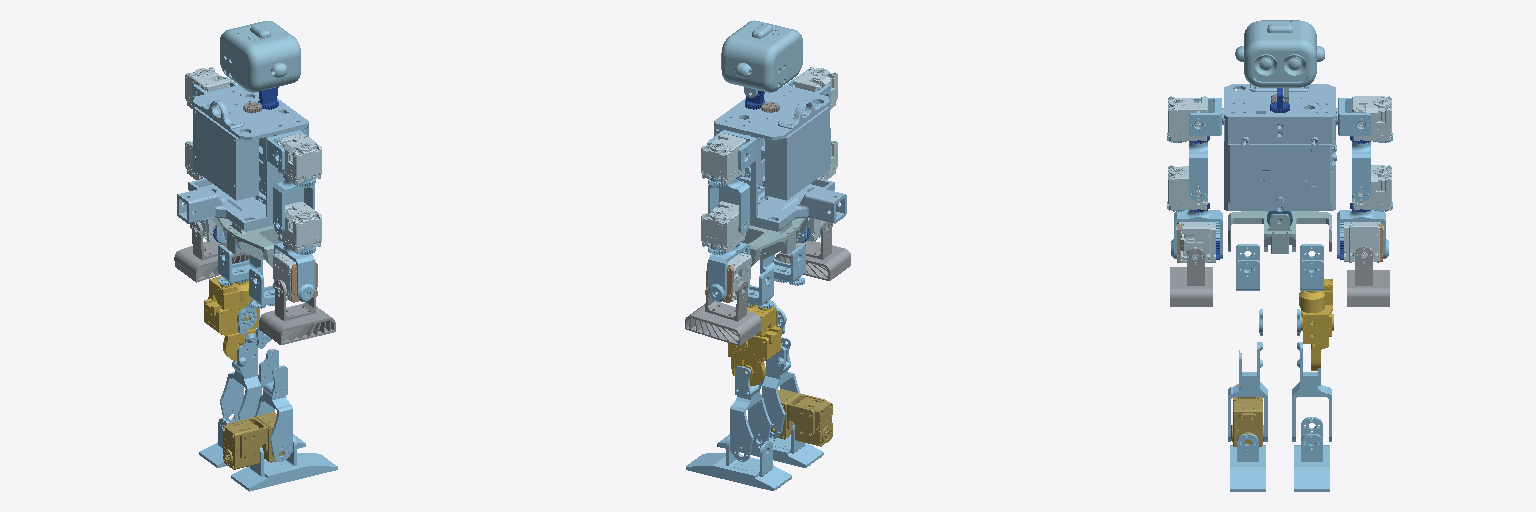
--- Render facts (derived) ---
3 views of the same robot in one strip: view 1: azimuth 30°, elevation 25°; view 2: azimuth 150°, elevation 25°; view 3: azimuth 270°, elevation 25° (orthographic).
Robot: toddlerbot_active — 55 links, 54 joints (30 revolute, 24 fixed); root link torso; default pose: all joints at 0.
Links seen in each view (by area): view 1: torso, head, hand_2, right_calf_link, left_hip_pitch_link, left_calf_link, ank_roll_link_2, right_ank_pitch_link, hand, 2xl430_gears_4, 2xl430_gears_5, waist_link (+8 smaller); view 2: torso, head, left_calf_link, hand, ank_roll_link, right_ank_pitch_link, left_hip_pitch_link, right_calf_link, hand_2, 2xl430_gears, 2xl430_gears_2, waist_link (+8 smaller); view 3: torso, head, ank_roll_link, waist_link, left_hip_pitch_link, hand_2, hand, ank_roll_link_2, 2xl430_gears, right_ank_pitch_link, 2xl430_gears_4, 2xl430_gears_6 (+13 smaller).
Link boxes in pixels (box(x1,y1,x2,y2)): torso: box(177, 86, 308, 231); head: box(220, 21, 300, 92); hand_2: box(259, 280, 335, 344); right_calf_link: box(254, 349, 292, 461); left_hip_pitch_link: box(204, 276, 259, 360); left_calf_link: box(220, 333, 261, 422); ank_roll_link_2: box(231, 436, 337, 491); right_ank_pitch_link: box(223, 412, 289, 469); hand: box(174, 222, 248, 282); 2xl430_gears_4: box(277, 133, 321, 184); 2xl430_gears_5: box(277, 202, 321, 252); waist_link: box(215, 218, 282, 267); torso: box(714, 86, 846, 231); head: box(721, 20, 802, 97); left_calf_link: box(730, 366, 771, 461); hand: box(685, 281, 761, 345); ank_roll_link: box(686, 436, 791, 490); right_ank_pitch_link: box(771, 389, 832, 446); left_hip_pitch_link: box(728, 305, 781, 385); right_calf_link: box(762, 337, 800, 438); hand_2: box(775, 221, 850, 280); 2xl430_gears: box(701, 133, 745, 183); 2xl430_gears_2: box(701, 201, 745, 252); waist_link: box(741, 217, 807, 266); torso: box(1222, 84, 1337, 211); head: box(1235, 20, 1324, 99); ank_roll_link: box(1294, 417, 1329, 491); waist_link: box(1228, 211, 1331, 253); left_hip_pitch_link: box(1299, 279, 1333, 370); hand_2: box(1170, 248, 1212, 306); hand: box(1347, 246, 1389, 306); ank_roll_link_2: box(1230, 434, 1265, 491); 2xl430_gears: box(1352, 96, 1391, 140); right_ank_pitch_link: box(1231, 384, 1263, 448); 2xl430_gears_4: box(1168, 96, 1207, 140); 2xl430_gears_6: box(1179, 222, 1215, 262).
Bounding box of the posed robot: 0.1752 × 0.2619 × 0.5614 m (x, y, z).
51 mesh visuals loaded from 55 distinct referenced files (51 binary STL); not drawn: 4 (reference not matched to a file when rendering).

URDF robot description (toddlerbot_active):
<?xml version="1.0" ?>
<robot name="toddlerbot_active">
  <mujoco>
    <compiler strippath="false" balanceinertia="true" discardvisual="false"/>
  </mujoco>
  <link name="torso">
    <visual>
      <origin xyz="0 0 0" rpy="0 -0 0"/>
      <geometry>
        <mesh filename="../assemblies/toddlerbot_active/meshes/torso_visual.stl"/>
      </geometry>
      <material name="torso_material">
        <color rgba="0.63866204066417398 0.79042612983052995546 0.89591918647189450198 1.0"/>
      </material>
    </visual>
    <collision name="torso_collision">
      <origin xyz="-0.02850000374019146 -5.000084638595581e-05 0.07068824046291411" rpy="0 0 0"/>
      <geometry>
        <box size="0.14100000634789467 0.13759998977184296 0.1454972173087299"/>
      </geometry>
    </collision>
    <inertial>
      <origin xyz="-0.0025146157670445632749 -0.0034624525472092657248 0.065529395922090741267" rpy="0 0 0"/>
      <mass value="1.085065963101202513"/>
      <inertia ixx="0.0028272039396820135455" ixy="7.4126802941129236275e-05" ixz="1.8774159564660604415e-05" iyy="0.002249597677268255682" iyz="-2.9332579430689060759e-05" izz="0.0023020777581455841021"/>
    </inertial>
  </link>
  <link name="spur_1m_20t">
    <visual>
      <origin xyz="0 0 0" rpy="0 -0 0"/>
      <geometry>
        <mesh filename="../assemblies/toddlerbot_active/meshes/spur_1m_20t_visual.stl"/>
      </geometry>
      <material name="spur_1m_20t_material">
        <color rgba="0.64705882352941179736 0.64705882352941179736 0.64705882352941179736 1.0"/>
      </material>
    </visual>
    <inertial>
      <origin xyz="-2.6272867535834243428e-19 -8.213876165191947908e-18 0.0033842321054344710884" rpy="0 0 0"/>
      <mass value="0.0015778025963746002049"/>
      <inertia ixx="4.5874424196602084909e-08" ixy="3.1120948173235942258e-24" ixz="-7.1097175513400468273e-39" iyy="4.5874424196602065057e-08" iyz="7.8419015231486123886e-38" izz="8.1737050837173876176e-08"/>
    </inertial>
  </link>
  <joint name="neck_yaw_drive" type="fixed">
    <origin xyz="-0.0049999999999995221878 3.1860588521011854095e-18 0.12148651076281755112" rpy="1.1607298201443905188e-14 1.6509758832059179101e-15 -5.3832337592600790636e-15"/>
    <parent link="torso"/>
    <child link="spur_1m_20t"/>
    <axis xyz="0 0 1"/>
    <limit effort="1" velocity="20"/>
    <joint_properties friction="0.0"/>
  </joint>
  <link name="neck_yaw_link_v2">
    <visual>
      <origin xyz="0 0 0" rpy="0 -0 0"/>
      <geometry>
        <mesh filename="../assemblies/toddlerbot_active/meshes/neck_yaw_link_v2_visual.stl"/>
      </geometry>
      <material name="neck_yaw_link_v2_material">
        <color rgba="0.2313725490196078538 0.38039215686274513439 0.7058823529411765163 1.0"/>
      </material>
    </visual>
    <inertial>
      <origin xyz="-1.1403990895340869883e-06 -1.1841855607304602894e-10 0.0082571849701004954719" rpy="0 0 0"/>
      <mass value="0.0067298837334394097723"/>
      <inertia ixx="5.2266067624768086445e-07" ixy="-6.3046403356094216415e-15" ixz="1.1949403084468002204e-09" iyy="6.1218519979556588152e-07" iyz="-2.601287198078358721e-15" izz="2.8062851709981924551e-07"/>
    </inertial>
  </link>
  <link name="head">
    <visual>
      <origin xyz="0 0 0" rpy="0 -0 0"/>
      <geometry>
        <mesh filename="../assemblies/toddlerbot_active/meshes/head_visual.stl"/>
      </geometry>
      <material name="head_material">
        <color rgba="0.62873939703496795062 0.79364291305093481732 0.87330110949792516539 1.0"/>
      </material>
    </visual>
    <inertial>
      <origin xyz="-0.045316002313821462932 -0.011276855645191820668 -0.0010251236602530952157" rpy="0 0 0"/>
      <mass value="0.13722101760550839411"/>
      <inertia ixx="0.00011880807294044733397" ixy="1.1390016804751257423e-06" ixz="1.8378816154934656445e-06" iyy="0.00010489076115433002847" iyz="-9.2536559812160233706e-06" izz="9.1894624061612226228e-05"/>
    </inertial>
  </link>
  <link name="motor_plate">
    <visual>
      <origin xyz="0 0 0" rpy="0 -0 0"/>
      <geometry>
        <mesh filename="../assemblies/toddlerbot_active/meshes/motor_plate_visual.stl"/>
      </geometry>
      <material name="motor_plate_material">
        <color rgba="0.64705882352941179736 0.64705882352941179736 0.64705882352941179736 1.0"/>
      </material>
    </visual>
    <inertial>
      <origin xyz="-6.9388939039072283776e-18 -3.4694469519536141888e-18 -0.0028281768943845498818" rpy="0 0 0"/>
      <mass value="0.0016999999999999999053"/>
      <inertia ixx="4.805029073310371698e-08" ixy="1.0773753257370483397e-09" ixz="-2.8434898612727714968e-36" iyy="5.1782428339099030199e-08" iyz="-8.7187946076336322982e-37" izz="9.2194729037862249329e-08"/>
    </inertial>
  </link>
  <joint name="neck_pitch_act" type="fixed">
    <origin xyz="-0.032615697718560709983 -0.027000000000000072553 0.0024999999999998486974" rpy="-3.1415926535897655825 -3.1793530896719215746e-13 -3.1415926535897407135"/>
    <parent link="head"/>
    <child link="motor_plate"/>
    <axis xyz="0 0 1"/>
    <limit effort="1" velocity="20"/>
    <joint_properties friction="0.0"/>
  </joint>
  <joint name="neck_pitch" type="revolute">
    <origin xyz="-1.1796119636642288242e-16 0.0040000000000001215139 0.019400000000000056088" rpy="-1.5707963267904627713 1.5671692223466835436 -3.1415926535886637971"/>
    <parent link="neck_yaw_link_v2"/>
    <child link="head"/>
    <axis xyz="0 0 1"/>
    <limit effort="1" velocity="20" lower="-1.3962634015954635824" upper="0.61086523819801530344"/>
    <joint_properties friction="0.0"/>
  </joint>
  <joint name="neck_yaw" type="revolute">
    <origin xyz="0.016000000000000621364 3.9122381713629107253e-19 0.12248651076281739936" rpy="1.5470695466536949876e-14 -3.0902695541116811913e-15 -8.6007558735577539147e-16"/>
    <parent link="torso"/>
    <child link="neck_yaw_link_v2"/>
    <axis xyz="0 0 1"/>
    <limit effort="1" velocity="20" lower="-2.6179938779914944114" upper="2.6179938779914944114"/>
    <joint_properties friction="0.0"/>
  </joint>
  <link name="waist_gears">
    <visual>
      <origin xyz="0 0 0" rpy="0 -0 0"/>
      <geometry>
        <mesh filename="../assemblies/toddlerbot_active/meshes/waist_gears_visual.stl"/>
      </geometry>
      <material name="waist_gears_material">
        <color rgba="0.29673072126509869584 0.50090014891145373532 0.63316042503557945498 1.0"/>
      </material>
    </visual>
    <inertial>
      <origin xyz="-2.9089024308857832571e-07 5.5035553748624927846e-08 -0.012592985430860506244" rpy="0 0 0"/>
      <mass value="0.026337180140419177987"/>
      <inertia ixx="1.5367047941033414761e-06" ixy="1.8828487083154202092e-11" ixz="4.0600521957505171123e-10" iyy="7.3024712275450681231e-06" iyz="3.2911737857356925833e-12" izz="6.9859065635059629397e-06"/>
    </inertial>
  </link>
  <link name="waist_link">
    <visual>
      <origin xyz="0 0 0" rpy="0 -0 0"/>
      <geometry>
        <mesh filename="../assemblies/toddlerbot_active/meshes/waist_link_visual.stl"/>
      </geometry>
      <material name="waist_link_material">
        <color rgba="0.64205964988973118768 0.77112878115803895618 0.80455743168009175026 1.0"/>
      </material>
    </visual>
    <collision name="waist_link_collision">
      <origin xyz="0.0 -0.021850000135600567 -0.022750000469386578" rpy="0 0 0"/>
      <geometry>
        <box size="0.11999999731779099 0.057499999180436134 0.07000000216066837"/>
      </geometry>
    </collision>
    <inertial>
      <origin xyz="-1.8696422424380786576e-17 -0.024647143936899634092 -0.024243097328499933762" rpy="0 0 0"/>
      <mass value="0.10819999998618363979"/>
      <inertia ixx="4.7479700735674147856e-05" ixy="-2.3251323235829624041e-20" ixz="-5.6250747314438694771e-09" iyy="9.6352172992785761079e-05" iyz="1.5514215856085537166e-06" izz="6.7249246473032378828e-05"/>
    </inertial>
  </link>
  <link name="spiral_bevel_1m_14t_30deg">
    <visual>
      <origin xyz="0 0 0" rpy="0 -0 0"/>
      <geometry>
        <mesh filename="../assemblies/toddlerbot_active/meshes/spiral_bevel_1m_14t_30deg_visual.stl"/>
      </geometry>
      <material name="spiral_bevel_1m_14t_30deg_material">
        <color rgba="0.64705882352941179736 0.64705882352941179736 0.64705882352941179736 1.0"/>
      </material>
    </visual>
    <inertial>
      <origin xyz="7.4971447105998133901e-10 7.1802237332913011122e-10 0.0066868955018979173155" rpy="0 0 0"/>
      <mass value="0.00073261524436595492574"/>
      <inertia ixx="1.3495056019478195011e-08" ixy="4.0596681291792787018e-17" ixz="8.5992550177701704034e-16" iyy="1.3495056150237195634e-08" iyz="-6.7913008238986341959e-16" izz="1.43559865498164051e-08"/>
    </inertial>
  </link>
  <joint name="waist_act_1" type="fixed">
    <origin xyz="-4.2595620045002374081e-18 -0.019600000000000006306 -0.012749999999999992242" rpy="1.570796326794896558 -1.1294754804497596673e-16 3.1415926535897926719"/>
    <parent link="waist_link"/>
    <child link="spiral_bevel_1m_14t_30deg"/>
    <axis xyz="0 0 1"/>
    <limit effort="1" velocity="20"/>
    <joint_properties friction="0.0"/>
  </joint>
  <link name="spiral_bevel_1m_14t_30deg_2">
    <visual>
      <origin xyz="0 0 0" rpy="0 -0 0"/>
      <geometry>
        <mesh filename="../assemblies/toddlerbot_active/meshes/spiral_bevel_1m_14t_30deg_2_visual.stl"/>
      </geometry>
      <material name="spiral_bevel_1m_14t_30deg_2_material">
        <color rgba="0.64705882352941179736 0.64705882352941179736 0.64705882352941179736 1.0"/>
      </material>
    </visual>
    <inertial>
      <origin xyz="3.6393116992217144912e-10 -9.7220472687967185443e-10 -0.0066868955018979190502" rpy="0 0 0"/>
      <mass value="0.00073261524436595492574"/>
      <inertia ixx="1.3495056012354480834e-08" ixy="2.5804135489187712274e-17" ixz="-1.069429605266726274e-15" iyy="1.3495056157360909811e-08" iyz="-2.387673694220831759e-16" izz="1.4355986549816408408e-08"/>
    </inertial>
  </link>
  <joint name="waist_act_2" type="fixed">
    <origin xyz="1.2028779959866843989e-17 -0.019599999999999999367 -0.032750000000000001332" rpy="-1.570796326794896558 1.1469143902292295508e-17 -3.141592653589793116"/>
    <parent link="waist_link"/>
    <child link="spiral_bevel_1m_14t_30deg_2"/>
    <axis xyz="0 0 1"/>
    <limit effort="1" velocity="20"/>
    <joint_properties friction="0.0"/>
  </joint>
  <joint name="left_hip_pitch" type="revolute">
    <origin xyz="0.05600000000000003586 -0.040100000000000766975 -0.02275000000000062389" rpy="-1.570796326794896558 2.3372262395059397709e-15 1.5707963267948974462"/>
    <parent link="waist_link"/>
    <child link="2xc430"/>
    <axis xyz="0 0 1"/>
    <limit effort="1" velocity="20" lower="-1.570796326794896558" upper="2.356194490192344837"/>
    <joint_properties friction="0.0"/>
  </joint>
  <joint name="right_hip_pitch" type="revolute">
    <origin xyz="-0.055999999999999966471 -0.040099999999999282052 -0.022750000000000037553" rpy="1.57079632679489678 3.8857805862892459266e-16 1.5707963267948961139"/>
    <parent link="waist_link"/>
    <child link="2xc430_2"/>
    <axis xyz="0 0 1"/>
    <limit effort="1" velocity="20" lower="-2.356194490192344837" upper="1.570796326794896558"/>
    <joint_properties friction="0.0"/>
  </joint>
  <joint name="waist_roll" type="revolute">
    <origin xyz="-0.022707865260692423198 -9.7274600111297846042e-19 -0.014000000000000000291" rpy="1.570796326794896558 8.4288122184796088386e-16 -1.570796326794896558"/>
    <parent link="waist_gears"/>
    <child link="waist_link"/>
    <axis xyz="0 0 1"/>
    <limit effort="1" velocity="20" lower="-0.52359877559829881566" upper="0.52359877559829881566"/>
    <joint_properties friction="0.0"/>
  </joint>
  <joint name="waist_yaw" type="revolute">
    <origin xyz="0 2.3419308123748787973e-31 -2.4651903288156618919e-32" rpy="1.7541622236939310179e-17 -3.9276012762146508757e-15 3.1415926535897922278"/>
    <parent link="torso"/>
    <child link="waist_gears"/>
    <axis xyz="0 0 1"/>
    <limit effort="1" velocity="20" lower="-1.570796326794896558" upper="1.570796326794896558"/>
    <joint_properties friction="0.0"/>
  </joint>
  <joint name="left_sho_pitch" type="revolute">
    <origin xyz="-0.0035000000000004762545 0.067000000000001072586 0.10423651076281729988" rpy="-1.5707963267949092145 -4.1276434099564722448e-14 3.4723733359247937182e-14"/>
    <parent link="torso"/>
    <child link="sho_pitch_link"/>
    <axis xyz="0 0 1"/>
    <limit effort="1" velocity="20" lower="-3.141592653589793116" upper="1.570796326794896558"/>
    <joint_properties friction="0.0"/>
  </joint>
  <joint name="right_sho_pitch" type="revolute">
    <origin xyz="-0.003499999999998689923 -0.067000000000001017075 0.10423651076281729988" rpy="-1.5707963267948874542 3.6375999989622199756e-14 -3.1415926535897562566"/>
    <parent link="torso"/>
    <child link="sho_pitch_link_2"/>
    <axis xyz="0 0 1"/>
    <limit effort="1" velocity="20" lower="-1.570796326794896558" upper="3.141592653589793116"/>
    <joint_properties friction="0.0"/>
  </joint>
  <link name="2xc430">
    <visual>
      <origin xyz="0 0 0" rpy="0 -0 0"/>
      <geometry>
        <mesh filename="../assemblies/left_leg_active/meshes/left_2xc430_visual.stl"/>
      </geometry>
      <material name="2xc430_material">
        <color rgba="0.51698661238356047321 0.50347815951093488618 0.49050589017722012741 1.0"/>
      </material>
    </visual>
    <inertial>
      <origin xyz="-0.0120001511339564923 0.00049588831385626367092 0.01850401924450319896" rpy="0 0 0"/>
      <mass value="0.11059999999836234164"/>
      <inertia ixx="2.2818802599017385101e-05" ixy="4.6888548258345894655e-08" ixz="4.6520143289217505514e-08" iyy="3.0871666424467696587e-05" iyz="-5.7477343899723834052e-07" izz="3.0871632082336744173e-05"/>
    </inertial>
  </link>
  <link name="hip_yaw_link">
    <visual>
      <origin xyz="0 0 0" rpy="0 -0 0"/>
      <geometry>
        <mesh filename="../assemblies/left_leg_active/meshes/left_hip_yaw_link_visual.stl"/>
      </geometry>
      <material name="hip_yaw_link_material">
        <color rgba="0.61568627450980395466 0.81176470588235294379 0.92941176470588238168 1.0"/>
      </material>
    </visual>
    <inertial>
      <origin xyz="7.9056415076153557052e-19 -0.015800610849654277146 -0.019005670096647751116" rpy="0 0 0"/>
      <mass value="0.013199999999999992989"/>
      <inertia ixx="5.789461597517412337e-06" ixy="-1.7415088674758894312e-36" ixz="1.2832779283935135522e-36" iyy="5.0110144042848776317e-06" iyz="1.1826010760651176287e-09" izz="2.7344876354814331659e-06"/>
    </inertial>
  </link>
  <link name="spur_gear_21_teeth">
    <visual>
      <origin xyz="0 0 0" rpy="0 -0 0"/>
      <geometry>
        <mesh filename="../assemblies/left_leg_active/meshes/left_spur_gear_21_teeth_visual.stl"/>
      </geometry>
      <material name="spur_gear_21_teeth_material">
        <color rgba="0.61568627450980395466 0.81176470588235294379 0.9294117647058824927 1.0"/>
      </material>
    </visual>
    <inertial>
      <origin xyz="-4.5505289335411606329e-11 -1.6782163661890817574e-11 -0.00249241020062506086" rpy="0 0 0"/>
      <mass value="0.0022000000000000001325"/>
      <inertia ixx="7.0162310059594196881e-08" ixy="-1.7296344820489596811e-39" ixz="-2.6465015955880150586e-39" iyy="7.016231005804746178e-08" iyz="4.706443675885446204e-39" izz="1.3125544198538289306e-07"/>
    </inertial>
  </link>
  <link name="left_hip_pitch_link">
    <visual>
      <origin xyz="0 0 0" rpy="0 -0 0"/>
      <geometry>
        <mesh filename="../assemblies/left_leg_active/meshes/left_hip_pitch_link_visual.stl"/>
      </geometry>
      <material name="left_hip_pitch_link_material">
        <color rgba="0.80773802221328794282 0.71541030077254164077 0.35058406659986895981 1.0"/>
      </material>
    </visual>
    <collision name="left_hip_pitch_link_collision">
      <origin xyz="-0.009275000542402267 -0.004349999129772186 0.05247500166296959" rpy="0 0 0"/>
      <geometry>
        <box size="0.05855000019073486 0.042399998754262924 0.10495000332593918"/>
      </geometry>
    </collision>
    <inertial>
      <origin xyz="-0.0099310748247876320938 -0.0055733268638736314579 0.039014117054800595552" rpy="0 0 0"/>
      <mass value="0.14895408167669133004"/>
      <inertia ixx="7.3955327919483632962e-05" ixy="-1.1805488631452789334e-06" ixz="-8.060325155229058482e-06" iyy="8.8995102919696593489e-05" iyz="1.1275669888575771416e-06" izz="4.2292269256454298725e-05"/>
    </inertial>
  </link>
  <link name="spur_gear_18_teeth">
    <visual>
      <origin xyz="0 0 0" rpy="0 -0 0"/>
      <geometry>
        <mesh filename="../assemblies/left_leg_active/meshes/left_spur_gear_18_teeth_visual.stl"/>
      </geometry>
      <material name="spur_gear_18_teeth_material">
        <color rgba="0.61568627450980395466 0.81176470588235294379 0.92941176470588238168 1.0"/>
      </material>
    </visual>
    <inertial>
      <origin xyz="-7.7513419666719815872e-14 -3.6849749222242637987e-13 0.0017500000000010135486" rpy="0 0 0"/>
      <mass value="0.0011999999999999998949"/>
      <inertia ixx="2.9367899810799927978e-08" ixy="7.0237994118966961071e-19" ixz="-9.093083600898419224e-36" iyy="2.9367899814659469999e-08" iyz="-6.7496912845597021962e-37" izz="5.6306346207859581581e-08"/>
    </inertial>
  </link>
  <joint name="left_hip_yaw_drive" type="fixed">
    <origin xyz="-0.019199999999993326572 0.00020000000000297904479 -3.3591185388814892576e-14" rpy="-3.1415926535896656624 -5.0119741105083928872e-13 4.8264601989417384549e-13"/>
    <parent link="left_hip_pitch_link"/>
    <child link="spur_gear_18_teeth"/>
    <axis xyz="0 0 1"/>
    <limit effort="1" velocity="20"/>
    <joint_properties friction="0.0"/>
  </joint>
  <link name="left_calf_link">
    <visual>
      <origin xyz="0 0 0" rpy="0 -0 0"/>
      <geometry>
        <mesh filename="../assemblies/left_leg_active/meshes/left_calf_link_visual.stl"/>
      </geometry>
      <material name="left_calf_link_material">
        <color rgba="0.61568627450980395466 0.81176470588235294379 0.92941176470588238168 1.0"/>
      </material>
    </visual>
    <inertial>
      <origin xyz="-0.0043450054391248786947 0.040752982165250771496 0.0087116093515534967495" rpy="0 0 0"/>
      <mass value="0.030999999999999992839"/>
      <inertia ixx="3.3069388685112569883e-05" ixy="-1.3783307153201298896e-06" ixz="-1.2742534026334006212e-07" iyy="7.7316525337315854217e-06" iyz="-7.335650059386048945e-08" izz="2.8031377753987751284e-05"/>
    </inertial>
  </link>
  <link name="left_ank_pitch_link">
    <visual>
      <origin xyz="0 0 0" rpy="0 -0 0"/>
      <geometry>
        <mesh filename="../assemblies/left_leg_active/meshes/left_ank_pitch_link_visual.stl"/>
      </geometry>
      <material name="left_ank_pitch_link_material">
        <color rgba="0.70321688500203349825 0.64514870846184457776 0.40484735422826251261 1.0"/>
      </material>
    </visual>
    <collision name="left_ank_pitch_link_collision">
      <origin xyz="0.01934999879449606 0.012000000104308128 0.016799999633803964" rpy="0 0 0"/>
      <geometry>
        <box size="0.084799999371171 0.04650000110268593 0.04239999828860164"/>
      </geometry>
    </collision>
    <inertial>
      <origin xyz="0.017770241891401236667 0.012301334508572112081 0.018813528244421784397" rpy="0 0 0"/>
      <mass value="0.1767637669506791076"/>
      <inertia ixx="4.7283316680251528594e-05" ixy="-1.3380598598440066277e-06" ixz="-5.5304058905152607314e-07" iyy="0.00010706456048089248178" iyz="-5.3225137839470791761e-08" izz="0.00012185522397136386665"/>
    </inertial>
  </link>
  <link name="ank_roll_link">
    <visual>
      <origin xyz="0 0 0" rpy="0 -0 0"/>
      <geometry>
        <mesh filename="../assemblies/left_leg_active/meshes/left_ank_roll_link_visual.stl"/>
      </geometry>
      <material name="ank_roll_link_material">
        <color rgba="0.61568627450980384364 0.81176470588235283277 0.92941176470588227065 1.0"/>
      </material>
    </visual>
    <collision name="ank_roll_link_collision">
      <origin xyz="-0.014500000514090061 0.0 0.038999998942017555" rpy="0 0 0"/>
      <geometry>
        <box size="0.04900000058114529 0.041999999433755875 0.12000000104308128"/>
      </geometry>
    </collision>
    <inertial>
      <origin xyz="-0.027003066516822049614 -2.0057346566329234726e-12 0.033764011359896449471" rpy="0 0 0"/>
      <mass value="0.042600000000000012856"/>
      <inertia ixx="3.7284397827464321284e-05" ixy="-5.5171856782523619006e-16" ixz="2.3929183768080488394e-06" iyy="3.7589276943350537956e-05" iyz="5.0934855332653714243e-12" izz="1.0090430906786831852e-05"/>
    </inertial>
  </link>
  <joint name="left_ank_roll" type="revolute">
    <origin xyz="0.022749999999985538734 -7.882583474838611437e-15 0.01900000000000061362" rpy="-1.5707963267949487385 -4.2119656378063955504e-14 1.5707963267951472464"/>
    <parent link="left_ank_pitch_link"/>
    <child link="ank_roll_link"/>
    <axis xyz="0 0 1"/>
    <limit effort="1" velocity="20" lower="-1.570796326794896558" upper="1.570796326794896558"/>
    <joint_properties friction="0.0"/>
  </joint>
  <joint name="left_ank_pitch" type="revolute">
    <origin xyz="-1.9512606733250257952e-15 0.10000000000000036637 0.02775000000000000383" rpy="-3.141592653589793116 3.5087959447744686916e-16 2.3008038058414658775e-14"/>
    <parent link="left_calf_link"/>
    <child link="left_ank_pitch_link"/>
    <axis xyz="0 0 1"/>
    <limit effort="1" velocity="20" lower="-1.7453292519943295336" upper="0.785398163397448279"/>
    <joint_properties friction="0.0"/>
  </joint>
  <joint name="left_knee" type="revolute">
    <origin xyz="-2.8613480456167939715e-17 -0.0087499999999999158312 0.085949999999999998623" rpy="1.57079632679489678 3.591571484825329779e-14 3.141592653589793116"/>
    <parent link="left_hip_pitch_link"/>
    <child link="left_calf_link"/>
    <axis xyz="0 0 1"/>
    <limit effort="1" velocity="20" lower="-2.0943951023931952626" upper="0"/>
    <joint_properties friction="0.0"/>
  </joint>
  <link name="xm430_plate">
    <visual>
      <origin xyz="0 0 0" rpy="0 -0 0"/>
      <geometry>
        <mesh filename="../assemblies/left_leg_active/meshes/left_xm430_plate_visual.stl"/>
      </geometry>
      <material name="xm430_plate_material">
        <color rgba="0.61568627450980395466 0.81176470588235294379 0.92941176470588227065 1.0"/>
      </material>
    </visual>
    <inertial>
      <origin xyz="-1.2470677117592975908e-17 -2.603989803260703764e-18 0.0025278513919583817798" rpy="0 0 0"/>
      <mass value="0.0026999999999999997093"/>
      <inertia ixx="1.2887178787151824688e-07" ixy="5.8739562556303580066e-08" ixz="1.3747001931663957437e-36" iyy="2.4635091298412528789e-07" iyz="1.2591564783620003869e-36" izz="3.6467998413810316538e-07"/>
    </inertial>
  </link>
  <joint name="left_knee_act" type="fixed">
    <origin xyz="2.549465851207057319e-18 0.012450000000000006201 0.044499999999999990952" rpy="-1.570796326794896558 1.570796326794896558 0"/>
    <parent link="left_hip_pitch_link"/>
    <child link="xm430_plate"/>
    <axis xyz="0 0 1"/>
    <limit effort="1" velocity="20"/>
    <joint_properties friction="0.0"/>
  </joint>
  <joint name="left_hip_yaw" type="revolute">
    <origin xyz="3.3476830706536645795e-18 3.4694469519536141888e-18 -0.0049999999999999905631" rpy="-3.141592653589793116 -9.9920072216846031328e-16 -6.2516448472107216595e-14"/>
    <parent link="spur_gear_21_teeth"/>
    <child link="left_hip_pitch_link"/>
    <axis xyz="0 0 1"/>
    <limit effort="1" velocity="20" lower="-1.570796326794896558" upper="1.570796326794896558"/>
    <joint_properties friction="0.0"/>
  </joint>
  <joint name="left_hip_yaw_fixed" type="fixed">
    <origin xyz="0 -0.028000000000000004052 -0.018999999999999999528" rpy="-1.5707963267948932273 1.5707963267948956698 0"/>
    <parent link="hip_yaw_link"/>
    <child link="spur_gear_21_teeth"/>
    <axis xyz="0 0 1"/>
    <limit effort="1" velocity="20"/>
    <joint_properties friction="0.0"/>
  </joint>
  <joint name="left_hip_roll" type="revolute">
    <origin xyz="-0.024000000716139682777 0.019000000152448071056 0.019000000152447796969" rpy="-1.57079632679489678 -1.5707963267948943376 0"/>
    <parent link="2xc430"/>
    <child link="hip_yaw_link"/>
    <axis xyz="0 0 1"/>
    <limit effort="1" velocity="20" lower="-0.785398163397448279" upper="0.785398163397448279"/>
    <joint_properties friction="0.0"/>
  </joint>
  <link name="2xc430_2">
    <visual>
      <origin xyz="0 0 0" rpy="0 -0 0"/>
      <geometry>
        <mesh filename="../assemblies/right_leg_active/meshes/right_2xc430_visual.stl"/>
      </geometry>
      <material name="2xc430_material">
        <color rgba="0.51698661238356047321 0.50347815951093488618 0.49050589017722012741 1.0"/>
      </material>
    </visual>
    <inertial>
      <origin xyz="-0.0120001511339564923 0.00049588831385626367092 0.01850401924450319896" rpy="0 0 0"/>
      <mass value="0.11059999999836234164"/>
      <inertia ixx="2.2818802599017385101e-05" ixy="4.6888548258345894655e-08" ixz="4.6520143289217505514e-08" iyy="3.0871666424467696587e-05" iyz="-5.7477343899723834052e-07" izz="3.0871632082336744173e-05"/>
    </inertial>
  </link>
  <link name="hip_yaw_link_2">
    <visual>
      <origin xyz="0 0 0" rpy="0 -0 0"/>
      <geometry>
        <mesh filename="../assemblies/right_leg_active/meshes/right_hip_yaw_link_visual.stl"/>
      </geometry>
      <material name="hip_yaw_link_material">
        <color rgba="0.61568627450980395466 0.81176470588235294379 0.92941176470588238168 1.0"/>
      </material>
    </visual>
    <inertial>
      <origin xyz="-2.678882801192081122e-18 -0.015800610849654277146 -0.019005670096647754586" rpy="0 0 0"/>
      <mass value="0.013199999999999992989"/>
      <inertia ixx="5.789461597517412337e-06" ixy="-1.9489251097466773533e-36" ixz="3.4468362863536094383e-36" iyy="5.0110144042848776317e-06" iyz="1.1826010760651176287e-09" izz="2.7344876354814331659e-06"/>
    </inertial>
  </link>
  <link name="spur_gear_21_teeth_2">
    <visual>
      <origin xyz="0 0 0" rpy="0 -0 0"/>
      <geometry>
        <mesh filename="../assemblies/right_leg_active/meshes/right_spur_gear_21_teeth_visual.stl"/>
      </geometry>
      <material name="spur_gear_21_teeth_material">
        <color rgba="0.61568627450980395466 0.81176470588235294379 0.9294117647058824927 1.0"/>
      </material>
    </visual>
    <inertial>
      <origin xyz="-4.550528933541158048e-11 -1.6782163661890817574e-11 -0.00249241020062506086" rpy="0 0 0"/>
      <mass value="0.0022000000000000001325"/>
      <inertia ixx="7.0162310059594196881e-08" ixy="0" ixz="4.8298814937805552291e-38" iyy="7.016231005804746178e-08" iyz="0" izz="1.3125544198538289306e-07"/>
    </inertial>
  </link>
  <link name="right_hip_pitch_link">
    <visual>
      <origin xyz="0 0 0" rpy="0 -0 0"/>
      <geometry>
        <mesh filename="../assemblies/right_leg_active/meshes/right_hip_pitch_link_visual.stl"/>
      </geometry>
      <material name="right_hip_pitch_link_material">
        <color rgba="0.81231119922470307326 0.7131158892107314351 0.33680089849959421455 1.0"/>
      </material>
    </visual>
    <collision name="right_hip_pitch_link_collision">
      <origin xyz="0.009275000542402267 -0.004349999129772186 0.05247500166296959" rpy="0 0 0"/>
      <geometry>
        <box size="0.05855000019073486 0.042399998754262924 0.10495000332593918"/>
      </geometry>
    </collision>
    <inertial>
      <origin xyz="0.010187905578010464716 -0.005618846722851051842 0.038815928333491969693" rpy="0 0 0"/>
      <mass value="0.14548965119785964295"/>
      <inertia ixx="7.094204959486600094e-05" ixy="1.1158758975154224099e-06" ixz="7.6515558781279078741e-06" iyy="8.5157398802913609982e-05" iyz="1.06993373990861437e-06" izz="4.094530693523142404e-05"/>
    </inertial>
  </link>
  <link name="spur_gear_18_teeth_2">
    <visual>
      <origin xyz="0 0 0" rpy="0 -0 0"/>
      <geometry>
        <mesh filename="../assemblies/right_leg_active/meshes/right_spur_gear_18_teeth_visual.stl"/>
      </geometry>
      <material name="spur_gear_18_teeth_material">
        <color rgba="0.61568627450980395466 0.81176470588235294379 0.92941176470588238168 1.0"/>
      </material>
    </visual>
    <inertial>
      <origin xyz="-1.2350917852414122165e-14 -3.7635296765399104409e-13 0.0017500000000010135486" rpy="0 0 0"/>
      <mass value="0.0011999999999999998949"/>
      <inertia ixx="2.936789981067607588e-08" ixy="-5.2777750224259310609e-37" ixz="2.2363428465405589407e-37" iyy="2.9367899814783318789e-08" iyz="-3.5199528326541291339e-38" izz="5.6306346207859581581e-08"/>
    </inertial>
  </link>
  <joint name="right_hip_yaw_drive" type="fixed">
    <origin xyz="0.01919999999999898524 0.00019999999999894754743 -3.8975767058246901797e-14" rpy="-3.1415926535897891192 -2.5796031977166208939e-13 5.3427523162437313535e-13"/>
    <parent link="right_hip_pitch_link"/>
    <child link="spur_gear_18_teeth_2"/>
    <axis xyz="0 0 1"/>
    <limit effort="1" velocity="20"/>
    <joint_properties friction="0.0"/>
  </joint>
  <link name="right_calf_link">
    <visual>
      <origin xyz="0 0 0" rpy="0 -0 0"/>
      <geometry>
        <mesh filename="../assemblies/right_leg_active/meshes/right_calf_link_visual.stl"/>
      </geometry>
      <material name="right_calf_link_material">
        <color rgba="0.61568627450980395466 0.81176470588235294379 0.92941176470588238168 1.0"/>
      </material>
    </visual>
    <inertial>
      <origin xyz="-0.0043450054394401152469 -0.040752982164757575734 0.0087116093514751913318" rpy="0 0 0"/>
      <mass value="0.030999999999999992839"/>
      <inertia ixx="3.3069388685437213894e-05" ixy="1.3783307152005711891e-06" ixz="-1.2742534017149146215e-07" iyy="7.7316525337491173096e-06" iyz="7.3356500737974886855e-08" izz="2.8031377754212021892e-05"/>
    </inertial>
  </link>
  <link name="right_ank_pitch_link">
    <visual>
      <origin xyz="0 0 0" rpy="0 -0 0"/>
      <geometry>
        <mesh filename="../assemblies/right_leg_active/meshes/right_ank_pitch_link_visual.stl"/>
      </geometry>
      <material name="right_ank_pitch_link_material">
        <color rgba="0.70321688500203349825 0.64514870846184457776 0.40484735422826251261 1.0"/>
      </material>
    </visual>
    <collision name="right_ank_pitch_link_collision">
      <origin xyz="-0.01934999879449606 0.012000001966953278 0.016799999633803964" rpy="0 0 0"/>
      <geometry>
        <box size="0.084799999371171 0.04650000482797623 0.04239999828860164"/>
      </geometry>
    </collision>
    <inertial>
      <origin xyz="-0.017770241889542692099 0.012301334508572231777 0.018814514831173610038" rpy="0 0 0"/>
      <mass value="0.1767637669506791076"/>
      <inertia ixx="4.7283381546857870814e-05" ixy="1.33805982072425138e-06" ixz="6.15326286073951289e-07" iyy="0.00010706462535917242202" iyz="-5.1080086246298360137e-08" izz="0.00012185522398303844723"/>
    </inertial>
  </link>
  <link name="ank_roll_link_2">
    <visual>
      <origin xyz="0 0 0" rpy="0 -0 0"/>
      <geometry>
        <mesh filename="../assemblies/right_leg_active/meshes/right_ank_roll_link_visual.stl"/>
      </geometry>
      <material name="ank_roll_link_material">
        <color rgba="0.61568627450980384364 0.81176470588235283277 0.92941176470588227065 1.0"/>
      </material>
    </visual>
    <collision name="ank_roll_link_2_collision">
      <origin xyz="-0.014500000514090061 0.0 0.038999998942017555" rpy="0 0 0"/>
      <geometry>
        <box size="0.04900000058114529 0.041999999433755875 0.12000000104308128"/>
      </geometry>
    </collision>
    <inertial>
      <origin xyz="-0.027003066516822035736 -2.0057347814959544714e-12 0.033764011359896435593" rpy="0 0 0"/>
      <mass value="0.042600000000000012856"/>
      <inertia ixx="3.7284397827464402599e-05" ixy="-5.5174204219832163841e-16" ixz="2.392918376808064933e-06" iyy="3.7589276943350354997e-05" iyz="5.0934855163573012951e-12" izz="1.009043090678676409e-05"/>
    </inertial>
  </link>
  <joint name="right_ank_roll" type="revolute">
    <origin xyz="-0.022749999999990215549 -4.1078251911130791996e-15 0.018999999999999885036" rpy="1.5707963267947835373 9.1691796370025759616e-15 1.5707963267947813168"/>
    <parent link="right_ank_pitch_link"/>
    <child link="ank_roll_link_2"/>
    <axis xyz="0 0 1"/>
    <limit effort="1" velocity="20" lower="-1.570796326794896558" upper="1.570796326794896558"/>
    <joint_properties friction="0.0"/>
  </joint>
  <joint name="right_ank_pitch" type="revolute">
    <origin xyz="5.6180870362790719763e-17 -0.10000000000000083822 0.027749999999999996891" rpy="-3.1415926535897908956 2.0683074016305722883e-15 3.1415926535897571448"/>
    <parent link="right_calf_link"/>
    <child link="right_ank_pitch_link"/>
    <axis xyz="0 0 1"/>
    <limit effort="1" velocity="20" lower="-0.785398163397448279" upper="1.7453292519943295336"/>
    <joint_properties friction="0.0"/>
  </joint>
  <joint name="right_knee" type="revolute">
    <origin xyz="4.7284234669871609276e-16 -0.0087500000000002471634 0.085950000000000914557" rpy="-1.5707963267948237274 -8.4836630014116765856e-15 2.2217821261973663682e-14"/>
    <parent link="right_hip_pitch_link"/>
    <child link="right_calf_link"/>
    <axis xyz="0 0 1"/>
    <limit effort="1" velocity="20" lower="0" upper="2.0943951023931952626"/>
    <joint_properties friction="0.0"/>
  </joint>
  <link name="xm430_plate_2">
    <visual>
      <origin xyz="0 0 0" rpy="0 -0 0"/>
      <geometry>
        <mesh filename="../assemblies/right_leg_active/meshes/right_xm430_plate_visual.stl"/>
      </geometry>
      <material name="xm430_plate_material">
        <color rgba="0.61568627450980395466 0.81176470588235294379 0.92941176470588227065 1.0"/>
      </material>
    </visual>
    <inertial>
      <origin xyz="-9.7261306791801168226e-19 -1.6840355871754458999e-17 0.0025278513919583817798" rpy="0 0 0"/>
      <mass value="0.0026999999999999997093"/>
      <inertia ixx="2.4635091298412534083e-07" ixy="5.8739562556303546978e-08" ixz="0" iyy="1.2887178787151819394e-07" iyz="0" izz="3.6467998413810316538e-07"/>
    </inertial>
  </link>
  <joint name="right_knee_act" type="fixed">
    <origin xyz="-3.6752903668471980207e-16 0.012449999999999988853 0.044500000000000546063" rpy="-1.570796326794896558 2.9976021664670273115e-15 -2.7630262808068215764e-25"/>
    <parent link="right_hip_pitch_link"/>
    <child link="xm430_plate_2"/>
    <axis xyz="0 0 1"/>
    <limit effort="1" velocity="20"/>
    <joint_properties friction="0.0"/>
  </joint>
  <joint name="right_hip_yaw" type="revolute">
    <origin xyz="4.4219386519237269229e-16 2.0122792321330962295e-16 -0.0050000000000000044409" rpy="3.141592653589793116 -1.1102230246227232743e-16 7.4562918480963285736e-14"/>
    <parent link="spur_gear_21_teeth_2"/>
    <child link="right_hip_pitch_link"/>
    <axis xyz="0 0 1"/>
    <limit effort="1" velocity="20" lower="-1.570796326794896558" upper="1.570796326794896558"/>
    <joint_properties friction="0.0"/>
  </joint>
  <joint name="right_hip_yaw_fixed" type="fixed">
    <origin xyz="-3.4694469519536141888e-18 -0.027999999999999997113 -0.019000000000000002998" rpy="-1.5707963267949067721 1.5707963267948852337 0"/>
    <parent link="hip_yaw_link_2"/>
    <child link="spur_gear_21_teeth_2"/>
    <axis xyz="0 0 1"/>
    <limit effort="1" velocity="20"/>
    <joint_properties friction="0.0"/>
  </joint>
  <joint name="right_hip_roll" type="revolute">
    <origin xyz="-0.024000000716139776452 0.019000000152447758806 0.019000000152447581864" rpy="-1.5707963267949041075 -1.5707963267948830133 0"/>
    <parent link="2xc430_2"/>
    <child link="hip_yaw_link_2"/>
    <axis xyz="0 0 1"/>
    <limit effort="1" velocity="20" lower="-0.785398163397448279" upper="0.785398163397448279"/>
    <joint_properties friction="0.0"/>
  </joint>
  <link name="sho_pitch_link">
    <visual>
      <origin xyz="0 0 0" rpy="0 -0 0"/>
      <geometry>
        <mesh filename="../assemblies/left_arm_active/meshes/left_sho_pitch_link_visual.stl"/>
      </geometry>
      <material name="sho_pitch_link_material">
        <color rgba="0.61568627450980395466 0.81176470588235294379 0.92941176470588227065 1.0"/>
      </material>
    </visual>
    <inertial>
      <origin xyz="-1.025903438159899119e-18 -2.1966078074444220184e-18 0.012913250798677602602" rpy="0 0 0"/>
      <mass value="0.0085999999999999982708"/>
      <inertia ixx="1.8365636406635814379e-06" ixy="0" ixz="0" iyy="4.0110869076839152165e-06" iyz="0" izz="3.5160516450492493809e-06"/>
    </inertial>
  </link>
  <link name="2xl430_gears">
    <visual>
      <origin xyz="0 0 0" rpy="0 -0 0"/>
      <geometry>
        <mesh filename="../assemblies/left_arm_active/meshes/left_2xl430_gears_visual.stl"/>
      </geometry>
      <material name="2xl430_gears_material">
        <color rgba="0.75914767920569214965 0.85560384745670925444 0.90519468321360607721 1.0"/>
      </material>
    </visual>
    <collision name="2xl430_gears_collision">
      <origin xyz="-0.011708511453562323 -0.002663695648909629 -0.019869671274007777" rpy="0 0 0"/>
      <geometry>
        <sphere radius="0.031174628050040995"/>
      </geometry>
    </collision>
    <inertial>
      <origin xyz="-0.011592905737981719708 -0.0024238553642539654651 -0.018551095523800652243" rpy="0 0 0"/>
      <mass value="0.11800003674524911501"/>
      <inertia ixx="2.7511021050425137297e-05" ixy="9.0043904315059743301e-07" ixz="-2.3349710123436745739e-08" iyy="3.2796197843345773501e-05" iyz="-6.5715119654595532665e-07" izz="3.577573983574187309e-05"/>
    </inertial>
  </link>
  <link name="spur_1m_24t_drive">
    <visual>
      <origin xyz="0 0 0" rpy="0 -0 0"/>
      <geometry>
        <mesh filename="../assemblies/left_arm_active/meshes/left_spur_1m_24t_drive_visual.stl"/>
      </geometry>
      <material name="spur_1m_24t_drive_material">
        <color rgba="0.61568627450980395466 0.81176470588235294379 0.92941176470588238168 1.0"/>
      </material>
    </visual>
    <inertial>
      <origin xyz="3.0326032611483892113e-15 -3.3912620811388928147e-16 0.0048096451474093108655" rpy="0 0 0"/>
      <mass value="0.0031999999999999997197"/>
      <inertia ixx="1.409759888701696132e-07" ixy="1.5562823114660456276e-15" ixz="-2.008449854153761406e-29" iyy="1.4097598803635996198e-07" iyz="1.6394294515261297612e-30" izz="2.4107776386988835496e-07"/>
    </inertial>
  </link>
  <joint name="left_sho_yaw_drive" type="fixed">
    <origin xyz="-0.024000000716141011575 -0.019000000152450600283 -0.019000000152443286688" rpy="1.5707963267948328312 -1.2315316060159674745e-15 7.63621479414374471e-14"/>
    <parent link="2xl430_gears"/>
    <child link="spur_1m_24t_drive"/>
    <axis xyz="0 0 1"/>
    <limit effort="1" velocity="20"/>
    <joint_properties friction="0.0"/>
  </joint>
  <link name="spur_1m_24t_driven">
    <visual>
      <origin xyz="0 0 0" rpy="0 -0 0"/>
      <geometry>
        <mesh filename="../assemblies/left_arm_active/meshes/left_spur_1m_24t_driven_visual.stl"/>
      </geometry>
      <material name="spur_1m_24t_driven_material">
        <color rgba="0.23137254901960788156 0.38039215686274502337 0.7058823529411765163 1.0"/>
      </material>
    </visual>
    <inertial>
      <origin xyz="-6.1597507571280238057e-18 -1.688384205958136519e-15 -0.00097237500038395777158" rpy="0 0 0"/>
      <mass value="0.0026999999999999997093"/>
      <inertia ixx="1.2202334915684085792e-07" ixy="2.7523294133209990513e-36" ixz="-7.3269571490458995975e-30" iyy="1.2202334915684064616e-07" iyz="2.3906142240509615961e-38" izz="2.3180293204341252239e-07"/>
    </inertial>
  </link>
  <link name="sho_yaw_link">
    <visual>
      <origin xyz="0 0 0" rpy="0 -0 0"/>
      <geometry>
        <mesh filename="../assemblies/left_arm_active/meshes/left_sho_yaw_link_visual.stl"/>
      </geometry>
      <material name="sho_yaw_link_material">
        <color rgba="0.61568627450980395466 0.81176470588235294379 0.92941176470588238168 1.0"/>
      </material>
    </visual>
    <inertial>
      <origin xyz="-1.3035750898319770195e-18 2.6069328434161451193e-18 -0.024649285094360082193" rpy="0 0 0"/>
      <mass value="0.014500000000000007674"/>
      <inertia ixx="9.2365904614004473434e-06" ixy="3.5862833440690462015e-13" ixz="9.1428418910883641815e-28" iyy="5.8163826335078791714e-06" iyz="3.2690928711022967479e-35" izz="4.5074356741562122031e-06"/>
    </inertial>
  </link>
  <link name="2xl430_gears_2">
    <visual>
      <origin xyz="0 0 0" rpy="0 -0 0"/>
      <geometry>
        <mesh filename="../assemblies/left_arm_active/meshes/left_2xl430_gears_2_visual.stl"/>
      </geometry>
      <material name="2xl430_gears_2_material">
        <color rgba="0.75914767920569214965 0.85560384745670925444 0.90519468321360607721 1.0"/>
      </material>
    </visual>
    <collision name="2xl430_gears_2_collision">
      <origin xyz="-0.011709013494106524 -0.0026637945762991427 -0.019868450994299965" rpy="0 0 0"/>
      <geometry>
        <sphere radius="0.031173800831198285"/>
      </geometry>
    </collision>
    <inertial>
      <origin xyz="-0.011592905737977830458 -0.0024238553642531319304 -0.018551095523810002402" rpy="0 0 0"/>
      <mass value="0.11800003674524911501"/>
      <inertia ixx="2.7511021050425449005e-05" ixy="9.0043904315422929852e-07" ixz="-2.3349710124855247993e-08" iyy="3.2796197843347501448e-05" iyz="-6.5715119654968301277e-07" izz="3.577573983574221868e-05"/>
    </inertial>
  </link>
  <link name="spur_1m_24t_drive_2">
    <visual>
      <origin xyz="0 0 0" rpy="0 -0 0"/>
      <geometry>
        <mesh filename="../assemblies/left_arm_active/meshes/left_spur_1m_24t_drive_2_visual.stl"/>
      </geometry>
      <material name="spur_1m_24t_drive_2_material">
        <color rgba="0.61568627450980395466 0.81176470588235294379 0.92941176470588238168 1.0"/>
      </material>
    </visual>
    <inertial>
      <origin xyz="3.0326032635612721456e-15 -3.3912620813973872492e-16 0.0048096451474093134676" rpy="0 0 0"/>
      <mass value="0.0031999999999999997197"/>
      <inertia ixx="1.4097598887016953379e-07" ixy="1.5562823114943523235e-15" ixz="-4.6297932308656121067e-28" iyy="1.4097598803635996198e-07" iyz="2.2330386657934582872e-29" izz="2.4107776386988835496e-07"/>
    </inertial>
  </link>
  <joint name="left_elbow_yaw_drive" type="fixed">
    <origin xyz="-0.024000000716137552537 -0.019000000152447502066 -0.019000000152459547986" rpy="1.5707963267950562081 -2.470655165606289817e-13 -1.8325179468455831644e-13"/>
    <parent link="2xl430_gears_2"/>
    <child link="spur_1m_24t_drive_2"/>
    <axis xyz="0 0 1"/>
    <limit effort="1" velocity="20"/>
    <joint_properties friction="0.0"/>
  </joint>
  <link name="spur_1m_24t_driven_2">
    <visual>
      <origin xyz="0 0 0" rpy="0 -0 0"/>
      <geometry>
        <mesh filename="../assemblies/left_arm_active/meshes/left_spur_1m_24t_driven_2_visual.stl"/>
      </geometry>
      <material name="spur_1m_24t_driven_2_material">
        <color rgba="0.23137254901960788156 0.38039215686274502337 0.7058823529411765163 1.0"/>
      </material>
    </visual>
    <inertial>
      <origin xyz="-2.6919984763826045554e-18 -1.6851535667301797593e-15 -0.00097237500038395083268" rpy="0 0 0"/>
      <mass value="0.0026999999999999997093"/>
      <inertia ixx="1.2202334915684080498e-07" ixy="-1.4158378337979601932e-26" ixz="-1.6652141981526740106e-31" iyy="1.2202334915684064616e-07" iyz="-6.1216890803012590929e-29" izz="2.3180293204341252239e-07"/>
    </inertial>
  </link>
  <link name="elb_yaw_link">
    <visual>
      <origin xyz="0 0 0" rpy="0 -0 0"/>
      <geometry>
        <mesh filename="../assemblies/left_arm_active/meshes/left_elb_yaw_link_visual.stl"/>
      </geometry>
      <material name="elb_yaw_link_material">
        <color rgba="0.61568627450980395466 0.81176470588235294379 0.92941176470588227065 1.0"/>
      </material>
    </visual>
    <inertial>
      <origin xyz="5.3127688027775035015e-08 0.0019833638641961613865 -0.023416643551549952418" rpy="0 0 0"/>
      <mass value="0.017500000000000005135"/>
      <inertia ixx="1.4134344903109199776e-05" ixy="1.6945783922010719072e-12" ixz="-1.1286398721833085835e-11" iyy="6.6435900776211340404e-06" iyz="1.0545227077253051227e-06" izz="8.9925290757998993713e-06"/>
    </inertial>
  </link>
  <link name="spur_1m_24t_driven_3">
    <visual>
      <origin xyz="0 0 0" rpy="0 -0 0"/>
      <geometry>
        <mesh filename="../assemblies/left_arm_active/meshes/left_spur_1m_24t_driven_3_visual.stl"/>
      </geometry>
      <material name="spur_1m_24t_driven_3_material">
        <color rgba="0.23137254901960788156 0.38039215686274502337 0.7058823529411765163 1.0"/>
      </material>
    </visual>
    <inertial>
      <origin xyz="-2.6903273536523174272e-18 -1.6883828105019308173e-15 -0.0025723750003839550293" rpy="0 0 0"/>
      <mass value="0.0026999999999999997093"/>
      <inertia ixx="1.2202334915684080498e-07" ixy="-6.8849887603967411276e-32" ixz="-2.6410010759070278003e-28" iyy="1.2202334915684059322e-07" iyz="2.0286938869726816775e-26" izz="2.3180293204341252239e-07"/>
    </inertial>
  </link>
  <link name="2xl430_gears_3">
    <visual>
      <origin xyz="0 0 0" rpy="0 -0 0"/>
      <geometry>
        <mesh filename="../assemblies/left_arm_active/meshes/left_2xl430_gears_3_visual.stl"/>
      </geometry>
      <material name="2xl430_gears_3_material">
        <color rgba="0.75914767920569214965 0.85560384745670925444 0.90519468321360607721 1.0"/>
      </material>
    </visual>
    <collision name="2xl430_gears_3_collision">
      <origin xyz="-0.0008536254376339718 0.01171871446801604 -0.024337078544579498" rpy="0 0 0"/>
      <geometry>
        <sphere radius="0.031160574725534962"/>
      </geometry>
    </collision>
    <inertial>
      <origin xyz="0.00044890447620203518522 0.011592905379898215887 -0.024576144788197726992" rpy="0 0 0"/>
      <mass value="0.11800003674524911501"/>
      <inertia ixx="3.5775739835741527501e-05" ixy="2.3349710123577267181e-08" ixz="6.571511965489162362e-07" iyy="2.7511021050426404458e-05" iyz="9.0043904315389906155e-07" izz="3.2796197843345726067e-05"/>
    </inertial>
  </link>
  <link name="spur_1m_24t_drive_3">
    <visual>
      <origin xyz="0 0 0" rpy="0 -0 0"/>
      <geometry>
        <mesh filename="../assemblies/left_arm_active/meshes/left_spur_1m_24t_drive_3_visual.stl"/>
      </geometry>
      <material name="spur_1m_24t_drive_3_material">
        <color rgba="0.61568627450980395466 0.81176470588235294379 0.92941176470588238168 1.0"/>
      </material>
    </visual>
    <inertial>
      <origin xyz="3.060358827889013058e-15 -3.4111303900242703925e-16 0.0048096451474093065287" rpy="0 0 0"/>
      <mass value="0.0031999999999999997197"/>
      <inertia ixx="1.4097598887016953379e-07" ixy="1.5562823135089737022e-15" ixz="-1.1512514101231046835e-27" iyy="1.4097598803635998845e-07" iyz="2.2291261639049831572e-27" izz="2.4107776386988835496e-07"/>
    </inertial>
  </link>
  <joint name="left_wrist_pitch_drive" type="fixed">
    <origin xyz="-1.524411534503666843e-10 0.024000000358058687366 -0.0080000000000068870187" rpy="9.3688325669630329923e-15 -2.4754144734777612982e-13 -1.570796326794971387"/>
    <parent link="2xl430_gears_3"/>
    <child link="spur_1m_24t_drive_3"/>
    <axis xyz="0 0 1"/>
    <limit effort="1" velocity="20"/>
    <joint_properties friction="0.0"/>
  </joint>
  <link name="hand">
    <visual>
      <origin xyz="0 0 0" rpy="0 -0 0"/>
      <geometry>
        <mesh filename="../assemblies/left_arm_active/meshes/left_hand_visual.stl"/>
      </geometry>
      <material name="hand_material">
        <color rgba="0.6414991312980887761 0.67624720774385704836 0.69709605361131787848 1.0"/>
      </material>
    </visual>
    <collision name="hand_collision">
      <origin xyz="-0.0044999998062849045 0.023250000085681677 -0.019000000320374966" rpy="0 0 0"/>
      <geometry>
        <box size="0.05000000074505806 0.06749999988824129 0.07400000281631947"/>
      </geometry>
    </collision>
    <inertial>
      <origin xyz="-0.0037132560743682236672 0.042135580180293723263 -0.019513129422372363364" rpy="0 0 0"/>
      <mass value="0.039500000000000000389"/>
      <inertia ixx="2.4655505305536037772e-05" ixy="6.2292690516536515991e-07" ixz="-1.3905202790257463006e-08" iyy="2.5499495709674586328e-05" iyz="4.0482284361505544926e-08" izz="1.3476712281039084689e-05"/>
    </inertial>
  </link>
  <joint name="left_wrist_roll" type="revolute">
    <origin xyz="0.019000000000007864764 -3.580815921555569048e-10 -0.027000000152448074692" rpy="-3.141592653589793116 -1.5707963267945825869 0"/>
    <parent link="2xl430_gears_3"/>
    <child link="hand"/>
    <axis xyz="0 0 1"/>
    <limit effort="1" velocity="20" lower="-1.9198621771937625091" upper="1.3962634015954635824"/>
    <joint_properties friction="0.0"/>
  </joint>
  <link name="wrist_bearing_plate">
    <visual>
      <origin xyz="0 0 0" rpy="0 -0 0"/>
      <geometry>
        <mesh filename="../assemblies/left_arm_active/meshes/left_wrist_bearing_plate_visual.stl"/>
      </geometry>
      <material name="wrist_bearing_plate_material">
        <color rgba="0.71932243125689054875 0.63128434304969727187 0.52422389360984933404 1.0"/>
      </material>
    </visual>
    <inertial>
      <origin xyz="-0.007583558312149987074 -0.015499999999999972133 -0.0018386323705903283732" rpy="0 0 0"/>
      <mass value="0.0049000367468305557062"/>
      <inertia ixx="4.9707430109150107956e-07" ixy="5.8442651625198521782e-23" ixz="1.8100904820814022013e-08" iyy="7.1268523603538521295e-07" iyz="1.0938305468180491225e-23" izz="1.1919657811600107117e-06"/>
    </inertial>
  </link>
  <joint name="left_wrist_pitch_fixed" type="fixed">
    <origin xyz="0.015500000000007483486 -1.7374990335383699858e-14 -0.044999999999998908928" rpy="4.0578672398099256913e-14 -2.8213543071750907979e-13 -1.570796326794906328"/>
    <parent link="2xl430_gears_3"/>
    <child link="wrist_bearing_plate"/>
    <axis xyz="0 0 1"/>
    <limit effort="1" velocity="20"/>
    <joint_properties friction="0.0"/>
  </joint>
  <joint name="left_wrist_pitch" type="revolute">
    <origin xyz="0 -1.3383120566617945357e-18 -0.0015999999999999961735" rpy="-2.8942931320395828399e-14 -2.5018666387969439484e-14 -1.5029360097675703578"/>
    <parent link="spur_1m_24t_driven_3"/>
    <child link="2xl430_gears_3"/>
    <axis xyz="0 0 1"/>
    <limit effort="1" velocity="20" lower="-1.3962634015954635824" upper="1.9198621771937625091"/>
    <joint_properties friction="0.0"/>
  </joint>
  <joint name="left_wrist_roll_fixed" type="fixed">
    <origin xyz="-1.6940658945086006781e-21 -0.025299999999999999573 -0.052000000000000032307" rpy="1.5707963267949238695 -1.5707963267948696906 0"/>
    <parent link="elb_yaw_link"/>
    <child link="spur_1m_24t_driven_3"/>
    <axis xyz="0 0 1"/>
    <limit effort="1" velocity="20"/>
    <joint_properties friction="0.0"/>
  </joint>
  <joint name="left_elbow_yaw_fixed" type="fixed">
    <origin xyz="0 3.4694469519536141888e-18 0.0015999999999999903189" rpy="3.141592653589793116 1.7371588856516367895e-15 -7.1482908950121119081e-21"/>
    <parent link="spur_1m_24t_driven_2"/>
    <child link="elb_yaw_link"/>
    <axis xyz="0 0 1"/>
    <limit effort="1" velocity="20"/>
    <joint_properties friction="0.0"/>
  </joint>
  <joint name="left_elbow_yaw" type="revolute">
    <origin xyz="-3.5806394654835926872e-10 -0.027000000152452907631 -0.019000000000006612294" rpy="-1.5707963271033555941 1.5702961013580483129 3.1415926532772431301"/>
    <parent link="2xl430_gears_2"/>
    <child link="spur_1m_24t_driven_2"/>
    <axis xyz="0 0 1"/>
    <limit effort="1" velocity="20" lower="-2.6179938779914944114" upper="2.6179938779914944114"/>
    <joint_properties friction="0.0"/>
  </joint>
  <joint name="left_elbow_roll" type="revolute">
    <origin xyz="0 -0.019000000000000002998 -0.05900000000000000383" rpy="1.570796326794896558 -9.1511985033140475399e-06 9.9917328930995459489e-16"/>
    <parent link="sho_yaw_link"/>
    <child link="2xl430_gears_2"/>
    <axis xyz="0 0 1"/>
    <limit effort="1" velocity="20" lower="-1.9198621771937625091" upper="2.4434609527920612138"/>
    <joint_properties friction="0.0"/>
  </joint>
  <joint name="left_sho_yaw_fixed" type="fixed">
    <origin xyz="-6.9388939039072283776e-18 0 0.0015999999999999972577" rpy="-3.1415926535897917837 7.771562309448331808e-16 7.7715611725339221982e-16"/>
    <parent link="spur_1m_24t_driven"/>
    <child link="sho_yaw_link"/>
    <axis xyz="0 0 1"/>
    <limit effort="1" velocity="20"/>
    <joint_properties friction="0.0"/>
  </joint>
  <joint name="left_sho_yaw" type="revolute">
    <origin xyz="-3.5807029216683439188e-10 -0.027000000152450923108 -0.018999999999999881567" rpy="1.5707963267948492625 7.0146039834906763197e-14 9.489446512533569504e-14"/>
    <parent link="2xl430_gears"/>
    <child link="spur_1m_24t_driven"/>
    <axis xyz="0 0 1"/>
    <limit effort="1" velocity="20" lower="-2.6179938779914944114" upper="2.6179938779914944114"/>
    <joint_properties friction="0.0"/>
  </joint>
  <joint name="left_sho_roll" type="revolute">
    <origin xyz="-0.018999999999999999528 1.0056362270253492431e-17 0.027000000000000003164" rpy="3.141592653589793116 1.5707956970996790336 0"/>
    <parent link="sho_pitch_link"/>
    <child link="2xl430_gears"/>
    <axis xyz="0 0 1"/>
    <limit effort="1" velocity="20" lower="-1.570796326794896558" upper="0.34906585039886589561"/>
    <joint_properties friction="0.0"/>
  </joint>
  <link name="sho_pitch_link_2">
    <visual>
      <origin xyz="0 0 0" rpy="0 -0 0"/>
      <geometry>
        <mesh filename="../assemblies/right_arm_active/meshes/right_sho_pitch_link_visual.stl"/>
      </geometry>
      <material name="sho_pitch_link_material">
        <color rgba="0.61568627450980395466 0.81176470588235294379 0.92941176470588227065 1.0"/>
      </material>
    </visual>
    <inertial>
      <origin xyz="-1.025903438159899119e-18 -2.1966078074444289517e-18 0.012913250798677602602" rpy="0 0 0"/>
      <mass value="0.0085999999999999982708"/>
      <inertia ixx="1.8365636406635814379e-06" ixy="2.7052466620977967735e-97" ixz="-6.0867229013657688598e-136" iyy="4.0110869076839152165e-06" iyz="-1.6935833339184753197e-44" izz="3.5160516450492493809e-06"/>
    </inertial>
  </link>
  <link name="2xl430_gears_4">
    <visual>
      <origin xyz="0 0 0" rpy="0 -0 0"/>
      <geometry>
        <mesh filename="../assemblies/right_arm_active/meshes/right_2xl430_gears_visual.stl"/>
      </geometry>
      <material name="2xl430_gears_material">
        <color rgba="0.75914767920569214965 0.85560384745670925444 0.90519468321360607721 1.0"/>
      </material>
    </visual>
    <collision name="2xl430_gears_4_collision">
      <origin xyz="-0.01170851145356234 -0.002663695648909648 -0.019869671274007784" rpy="0 0 0"/>
      <geometry>
        <sphere radius="0.031174628050041002"/>
      </geometry>
    </collision>
    <inertial>
      <origin xyz="-0.011592905737978696085 -0.0024238553642522840843 -0.018551095523803726173" rpy="0 0 0"/>
      <mass value="0.11800003674524911501"/>
      <inertia ixx="2.7511021050424646017e-05" ixy="9.0043904315135573925e-07" ixz="-2.3349710123960218718e-08" iyy="3.2796197843346207182e-05" iyz="-6.5715119654693386146e-07" izz="3.5775739835740998952e-05"/>
    </inertial>
  </link>
  <link name="spur_1m_24t_drive_4">
    <visual>
      <origin xyz="0 0 0" rpy="0 -0 0"/>
      <geometry>
        <mesh filename="../assemblies/right_arm_active/meshes/right_spur_1m_24t_drive_visual.stl"/>
      </geometry>
      <material name="spur_1m_24t_drive_material">
        <color rgba="0.61568627450980395466 0.81176470588235294379 0.92941176470588238168 1.0"/>
      </material>
    </visual>
    <inertial>
      <origin xyz="3.0326032612408354263e-15 -3.3912620811388938008e-16 0.0048096451474093030592" rpy="0 0 0"/>
      <mass value="0.0031999999999999997197"/>
      <inertia ixx="1.4097598887016958673e-07" ixy="1.556282310200251252e-15" ixz="3.9554371954665940773e-37" iyy="1.4097598803635998845e-07" iyz="-1.3068306635892902166e-36" izz="2.4107776386988835496e-07"/>
    </inertial>
  </link>
  <joint name="right_sho_yaw_drive" type="fixed">
    <origin xyz="-0.024000000716138267243 -0.019000000152445337132 -0.019000000152448424939" rpy="1.5707963267949289765 -7.4062049324254792929e-14 1.9645226351351914911e-14"/>
    <parent link="2xl430_gears_4"/>
    <child link="spur_1m_24t_drive_4"/>
    <axis xyz="0 0 1"/>
    <limit effort="1" velocity="20"/>
    <joint_properties friction="0.0"/>
  </joint>
  <link name="spur_1m_24t_driven_4">
    <visual>
      <origin xyz="0 0 0" rpy="0 -0 0"/>
      <geometry>
        <mesh filename="../assemblies/right_arm_active/meshes/right_spur_1m_24t_driven_visual.stl"/>
      </geometry>
      <material name="spur_1m_24t_driven_material">
        <color rgba="0.23137254901960788156 0.38039215686274502337 0.7058823529411765163 1.0"/>
      </material>
    </visual>
    <inertial>
      <origin xyz="-2.690304390834019776e-18 -1.6883842059581361246e-15 -0.00097237500038395777158" rpy="0 0 0"/>
      <mass value="0.0026999999999999997093"/>
      <inertia ixx="1.2202334915684080498e-07" ixy="0" ixz="0" iyy="1.2202334915684064616e-07" iyz="-3.1611202962161956801e-37" izz="2.3180293204341252239e-07"/>
    </inertial>
  </link>
  <link name="sho_yaw_link_2">
    <visual>
      <origin xyz="0 0 0" rpy="0 -0 0"/>
      <geometry>
        <mesh filename="../assemblies/right_arm_active/meshes/right_sho_yaw_link_visual.stl"/>
      </geometry>
      <material name="sho_yaw_link_material">
        <color rgba="0.61568627450980395466 0.81176470588235294379 0.92941176470588238168 1.0"/>
      </material>
    </visual>
    <inertial>
      <origin xyz="-1.3035740535093626537e-18 2.6069328434162263936e-18 -0.024649285094360089132" rpy="0 0 0"/>
      <mass value="0.014500000000000007674"/>
      <inertia ixx="9.2365904614004439553e-06" ixy="3.5862833440690451918e-13" ixz="3.9137616104652588598e-44" iyy="5.8163826335078791714e-06" iyz="-5.7710285861749289932e-36" izz="4.5074356741562122031e-06"/>
    </inertial>
  </link>
  <link name="2xl430_gears_5">
    <visual>
      <origin xyz="0 0 0" rpy="0 -0 0"/>
      <geometry>
        <mesh filename="../assemblies/right_arm_active/meshes/right_2xl430_gears_2_visual.stl"/>
      </geometry>
      <material name="2xl430_gears_2_material">
        <color rgba="0.75914767920569214965 0.85560384745670925444 0.90519468321360607721 1.0"/>
      </material>
    </visual>
    <collision name="2xl430_gears_5_collision">
      <origin xyz="-0.011708886637741642 -0.002663752496014671 -0.019869324751325072" rpy="0 0 0"/>
      <geometry>
        <sphere radius="0.031174264351886416"/>
      </geometry>
    </collision>
    <inertial>
      <origin xyz="-0.011592905737984599349 -0.0024238553642520555345 -0.018551095523805894577" rpy="0 0 0"/>
      <mass value="0.11800003674524911501"/>
      <inertia ixx="2.7511021050426052092e-05" ixy="9.0043904315050616521e-07" ixz="-2.3349710123664931783e-08" iyy="3.2796197843347223622e-05" iyz="-6.5715119654724408728e-07" izz="3.5775739835742259337e-05"/>
    </inertial>
  </link>
  <link name="spur_1m_24t_drive_5">
    <visual>
      <origin xyz="0 0 0" rpy="0 -0 0"/>
      <geometry>
        <mesh filename="../assemblies/right_arm_active/meshes/right_spur_1m_24t_drive_2_visual.stl"/>
      </geometry>
      <material name="spur_1m_24t_drive_2_material">
        <color rgba="0.61568627450980395466 0.81176470588235294379 0.92941176470588238168 1.0"/>
      </material>
    </visual>
    <inertial>
      <origin xyz="3.0256643673369285924e-15 -3.3912620813973872492e-16 0.0048096451474092995898" rpy="0 0 0"/>
      <mass value="0.0031999999999999997197"/>
      <inertia ixx="1.4097598887016958673e-07" ixy="1.5562823048769074231e-15" ixz="-2.8340681600212421658e-36" iyy="1.4097598803635996198e-07" iyz="1.2526517803646001736e-36" izz="2.4107776386988835496e-07"/>
    </inertial>
  </link>
  <joint name="right_elbow_yaw_drive" type="fixed">
    <origin xyz="-0.024000000716147162905 -0.019000000152450874369 -0.019000000152450294971" rpy="1.5707963267950022512 -1.2151179192951298761e-14 -8.3478238015103697896e-15"/>
    <parent link="2xl430_gears_5"/>
    <child link="spur_1m_24t_drive_5"/>
    <axis xyz="0 0 1"/>
    <limit effort="1" velocity="20"/>
    <joint_properties friction="0.0"/>
  </joint>
  <link name="spur_1m_24t_driven_5">
    <visual>
      <origin xyz="0 0 0" rpy="0 -0 0"/>
      <geometry>
        <mesh filename="../assemblies/right_arm_active/meshes/right_spur_1m_24t_driven_2_visual.stl"/>
      </geometry>
      <material name="spur_1m_24t_driven_2_material">
        <color rgba="0.23137254901960788156 0.38039215686274502337 0.7058823529411765163 1.0"/>
      </material>
    </visual>
    <inertial>
      <origin xyz="-2.690304390834019776e-18 -1.6883842059581371106e-15 -0.00097237500038396460205" rpy="0 0 0"/>
      <mass value="0.0026999999999999997093"/>
      <inertia ixx="1.2202334915684080498e-07" ixy="3.8503779869585959908e-37" ixz="1.8410192092776977521e-66" iyy="1.2202334915684064616e-07" iyz="1.7901380328147422279e-36" izz="2.3180293204341252239e-07"/>
    </inertial>
  </link>
  <link name="elb_yaw_link_2">
    <visual>
      <origin xyz="0 0 0" rpy="0 -0 0"/>
      <geometry>
        <mesh filename="../assemblies/right_arm_active/meshes/right_elb_yaw_link_visual.stl"/>
      </geometry>
      <material name="elb_yaw_link_material">
        <color rgba="0.61568627450980395466 0.81176470588235294379 0.92941176470588227065 1.0"/>
      </material>
    </visual>
    <inertial>
      <origin xyz="5.3127688027774929136e-08 0.0019833638641961648559 -0.02341664355154993854" rpy="0 0 0"/>
      <mass value="0.017500000000000005135"/>
      <inertia ixx="1.4134344903109199776e-05" ixy="1.6945783922006116668e-12" ixz="-1.1286398721833140765e-11" iyy="6.6435900776211340404e-06" iyz="1.0545227077253051227e-06" izz="8.9925290757998993713e-06"/>
    </inertial>
  </link>
  <link name="spur_1m_24t_driven_6">
    <visual>
      <origin xyz="0 0 0" rpy="0 -0 0"/>
      <geometry>
        <mesh filename="../assemblies/right_arm_active/meshes/right_spur_1m_24t_driven_3_visual.stl"/>
      </geometry>
      <material name="spur_1m_24t_driven_3_material">
        <color rgba="0.23137254901960788156 0.38039215686274502337 0.7058823529411765163 1.0"/>
      </material>
    </visual>
    <inertial>
      <origin xyz="2.5065271224795038179e-17 -1.6883842059581323775e-15 -0.0025723750003839550293" rpy="0 0 0"/>
      <mass value="0.0026999999999999997093"/>
      <inertia ixx="1.2202334915684080498e-07" ixy="1.6801645595678856956e-36" ixz="1.4628821664372086897e-36" iyy="1.2202334915684064616e-07" iyz="0" izz="2.3180293204341252239e-07"/>
    </inertial>
  </link>
  <link name="2xl430_gears_6">
    <visual>
      <origin xyz="0 0 0" rpy="0 -0 0"/>
      <geometry>
        <mesh filename="../assemblies/right_arm_active/meshes/right_2xl430_gears_3_visual.stl"/>
      </geometry>
      <material name="2xl430_gears_3_material">
        <color rgba="0.75914767920569214965 0.85560384745670925444 0.90519468321360607721 1.0"/>
      </material>
    </visual>
    <collision name="2xl430_gears_6_collision">
      <origin xyz="-0.0008536254376340004 0.01171871446801601 -0.024337078544579577" rpy="0 0 0"/>
      <geometry>
        <sphere radius="0.031160574725534955"/>
      </geometry>
    </collision>
    <inertial>
      <origin xyz="0.00044890447620015019132 0.011592905379911784894 -0.024576144788197192698" rpy="0 0 0"/>
      <mass value="0.11800003674524911501"/>
      <inertia ixx="3.5775739835742767557e-05" ixy="2.3349710123598390066e-08" ixz="6.5715119654677461927e-07" iyy="2.7511021050425875909e-05" iyz="9.0043904315183537166e-07" izz="3.2796197843346695073e-05"/>
    </inertial>
  </link>
  <link name="spur_1m_24t_drive_6">
    <visual>
      <origin xyz="0 0 0" rpy="0 -0 0"/>
      <geometry>
        <mesh filename="../assemblies/right_arm_active/meshes/right_spur_1m_24t_drive_3_visual.stl"/>
      </geometry>
      <material name="spur_1m_24t_drive_3_material">
        <color rgba="0.61568627450980395466 0.81176470588235294379 0.92941176470588238168 1.0"/>
      </material>
    </visual>
    <inertial>
      <origin xyz="3.0326032612408362152e-15 -3.3912620813973872492e-16 0.0048096451474093065287" rpy="0 0 0"/>
      <mass value="0.0031999999999999997197"/>
      <inertia ixx="1.409759888701696132e-07" ixy="1.5562823122431795239e-15" ixz="9.6598469821100867444e-37" iyy="1.4097598803636004139e-07" iyz="-1.7762240303079187312e-37" izz="2.4107776386988835496e-07"/>
    </inertial>
  </link>
  <joint name="right_wrist_pitch_drive" type="fixed">
    <origin xyz="-1.5244312511681577095e-10 0.024000000358071732487 -0.0080000000000008709977" rpy="1.2483159056318864267e-14 7.3485321852726251993e-14 -1.5707963267948599206"/>
    <parent link="2xl430_gears_6"/>
    <child link="spur_1m_24t_drive_6"/>
    <axis xyz="0 0 1"/>
    <limit effort="1" velocity="20"/>
    <joint_properties friction="0.0"/>
  </joint>
  <link name="hand_2">
    <visual>
      <origin xyz="0 0 0" rpy="0 -0 0"/>
      <geometry>
        <mesh filename="../assemblies/right_arm_active/meshes/right_hand_visual.stl"/>
      </geometry>
      <material name="hand_material">
        <color rgba="0.64149913129808888712 0.67624720774385704836 0.69709605361131798951 1.0"/>
      </material>
    </visual>
    <collision name="hand_2_collision">
      <origin xyz="0.0044999998062849045 -0.023250000085681677 -0.019000000320374966" rpy="0 0 0"/>
      <geometry>
        <box size="0.05000000074505806 0.06749999988824129 0.07400000281631947"/>
      </geometry>
    </collision>
    <inertial>
      <origin xyz="0.0037132560777026323712 -0.042135580180293688568 -0.018486870577627653039" rpy="0 0 0"/>
      <mass value="0.039499999999999986511"/>
      <inertia ixx="2.4655505305535383863e-05" ixy="6.2292690365591973125e-07" ixz="-1.3905201231125081665e-08" iyy="2.5499495708696300544e-05" iyz="4.048228436147505174e-08" izz="1.3476712280060873444e-05"/>
    </inertial>
  </link>
  <joint name="right_wrist_roll" type="revolute">
    <origin xyz="0.019000000000002754269 -3.5806785314562716849e-10 -0.02700000015244990656" rpy="5.2111933288359401161e-30 1.570796326794831943 0"/>
    <parent link="2xl430_gears_6"/>
    <child link="hand_2"/>
    <axis xyz="0 0 1"/>
    <limit effort="1" velocity="20" lower="-1.3962634015954635824" upper="1.9198621771937625091"/>
    <joint_properties friction="0.0"/>
  </joint>
  <link name="wrist_bearing_plate_2">
    <visual>
      <origin xyz="0 0 0" rpy="0 -0 0"/>
      <geometry>
        <mesh filename="../assemblies/right_arm_active/meshes/right_wrist_bearing_plate_visual.stl"/>
      </geometry>
      <material name="wrist_bearing_plate_material">
        <color rgba="0.71932243125689054875 0.63128434304969727187 0.52422389360984933404 1.0"/>
      </material>
    </visual>
    <inertial>
      <origin xyz="-0.0075835583121499801351 -0.015499999999999977338 -0.0018386323705903331437" rpy="0 0 0"/>
      <mass value="0.0049000367468305557062"/>
      <inertia ixx="4.9707430109150129132e-07" ixy="1.3510663819638977183e-22" ixz="1.8100904820814035248e-08" iyy="7.1268523603538595411e-07" iyz="1.9159694223314982598e-23" izz="1.1919657811600109234e-06"/>
    </inertial>
  </link>
  <joint name="right_wrist_pitch_fixed" type="fixed">
    <origin xyz="0.015500000000003967202 4.5519144009631418157e-15 -0.045000000000003738398" rpy="-3.053113317715679127e-15 1.2051470932306202988e-13 -1.570796326794896558"/>
    <parent link="2xl430_gears_6"/>
    <child link="wrist_bearing_plate_2"/>
    <axis xyz="0 0 1"/>
    <limit effort="1" velocity="20"/>
    <joint_properties friction="0.0"/>
  </joint>
  <joint name="right_wrist_pitch" type="revolute">
    <origin xyz="2.7755575615628913511e-17 3.1554436208840472216e-30 -0.0015999999999999940051" rpy="-2.7183456742960519592e-16 6.3108872417680986472e-30 1.570796326794896558"/>
    <parent link="spur_1m_24t_driven_6"/>
    <child link="2xl430_gears_6"/>
    <axis xyz="0 0 1"/>
    <limit effort="1" velocity="20" lower="-1.9198621771937625091" upper="1.3962634015954635824"/>
    <joint_properties friction="0.0"/>
  </joint>
  <joint name="right_wrist_roll_fixed" type="fixed">
    <origin xyz="5.5220263365470826379e-30 -0.025299999999999999573 -0.051999999999999990674" rpy="1.570796326794896558 1.570796326794896558 0"/>
    <parent link="elb_yaw_link_2"/>
    <child link="spur_1m_24t_driven_6"/>
    <axis xyz="0 0 1"/>
    <limit effort="1" velocity="20"/>
    <joint_properties friction="0.0"/>
  </joint>
  <joint name="right_elbow_yaw_fixed" type="fixed">
    <origin xyz="-3.4694469519536141888e-18 7.8886090522101180541e-31 0.0015999999999999903189" rpy="3.141592653589793116 5.5511151240344814396e-17 -1.5707963267948970021"/>
    <parent link="spur_1m_24t_driven_5"/>
    <child link="elb_yaw_link_2"/>
    <axis xyz="0 0 1"/>
    <limit effort="1" velocity="20"/>
    <joint_properties friction="0.0"/>
  </joint>
  <joint name="right_elbow_yaw" type="revolute">
    <origin xyz="-3.5807255424624706563e-10 -0.027000000152453657032 -0.019000000000001768946" rpy="1.570796326794956066 3.0087043967523975425e-14 -4.0634162701317111644e-14"/>
    <parent link="2xl430_gears_5"/>
    <child link="spur_1m_24t_driven_5"/>
    <axis xyz="0 0 1"/>
    <limit effort="1" velocity="20" lower="-2.6179938779914944114" upper="2.6179938779914944114"/>
    <joint_properties friction="0.0"/>
  </joint>
  <joint name="right_elbow_roll" type="revolute">
    <origin xyz="-8.4654505627668186207e-16 -0.018999999999998996858 -0.05900000000000006628" rpy="1.570796326794896558 -7.4924624234411720275e-14 -2.6978419498846060156e-14"/>
    <parent link="sho_yaw_link_2"/>
    <child link="2xl430_gears_5"/>
    <axis xyz="0 0 1"/>
    <limit effort="1" velocity="20" lower="-1.9198621771937625091" upper="2.4434609527920612138"/>
    <joint_properties friction="0.0"/>
  </joint>
  <joint name="right_sho_yaw_fixed" type="fixed">
    <origin xyz="0 3.9443045261050590271e-31 0.0015999999999999972577" rpy="3.141592653589793116 -5.0487097934144755546e-29 -1.8301573001127473886e-28"/>
    <parent link="spur_1m_24t_driven_4"/>
    <child link="sho_yaw_link_2"/>
    <axis xyz="0 0 1"/>
    <limit effort="1" velocity="20"/>
    <joint_properties friction="0.0"/>
  </joint>
  <joint name="right_sho_yaw" type="revolute">
    <origin xyz="-3.5806816886529979627e-10 -0.027000000152446666096 -0.019000000000003354483" rpy="1.5707963267949260899 -2.2055090607973039157e-14 7.6050277186033683693e-15"/>
    <parent link="2xl430_gears_4"/>
    <child link="spur_1m_24t_driven_4"/>
    <axis xyz="0 0 1"/>
    <limit effort="1" velocity="20" lower="-2.6179938779914944114" upper="2.6179938779914944114"/>
    <joint_properties friction="0.0"/>
  </joint>
  <joint name="right_sho_roll" type="revolute">
    <origin xyz="-0.018999999999999999528 9.3241386833306442318e-18 0.027000000000000006634" rpy="3.141592653589793116 1.5707963267948952257 0"/>
    <parent link="sho_pitch_link_2"/>
    <child link="2xl430_gears_4"/>
    <axis xyz="0 0 1"/>
    <limit effort="1" velocity="20" lower="-1.570796326794896558" upper="0.34906585039886589561"/>
    <joint_properties friction="0.0"/>
  </joint>
</robot>
